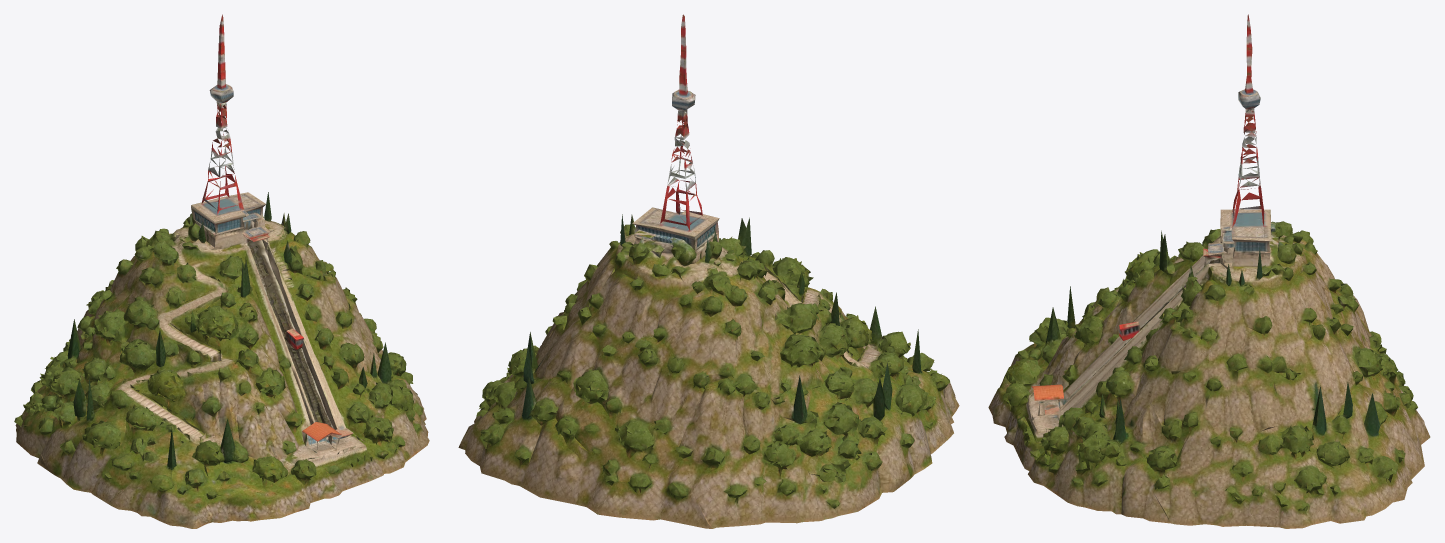
The model's file is m_tb_mtatsminda.glb.
3 renders of one model, left to right at view 1: azimuth 30°, elevation 25°; view 2: azimuth 150°, elevation 25°; view 3: azimuth 270°, elevation 25°, orthographic. The views are drawn at different scales.
Bounding box in the file's own units: 0.9925 × 1.05 × 0.985.
Materials: 1 (1 with a texture image).
